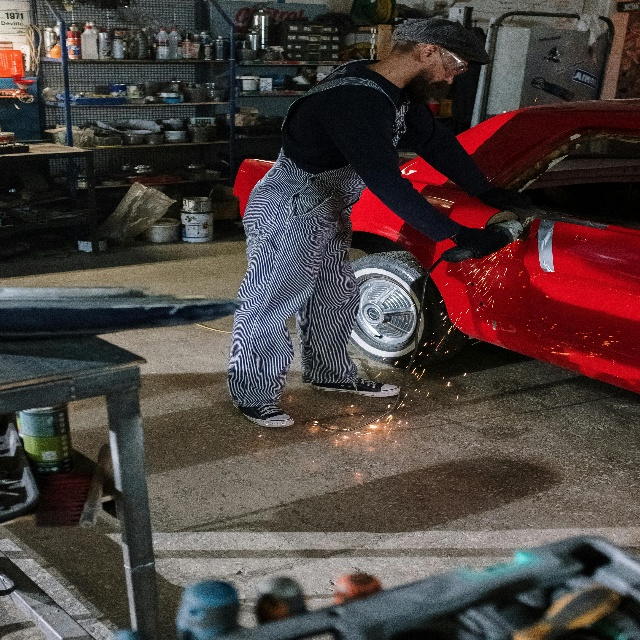Guantes: (481, 184, 532, 220), (451, 223, 498, 260)
